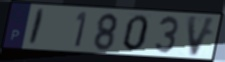0: (121, 14, 151, 53)
1: (74, 11, 89, 49)
3: (153, 15, 181, 55)
8: (92, 11, 120, 52)
I: (27, 7, 47, 47)
V: (186, 14, 218, 58)
